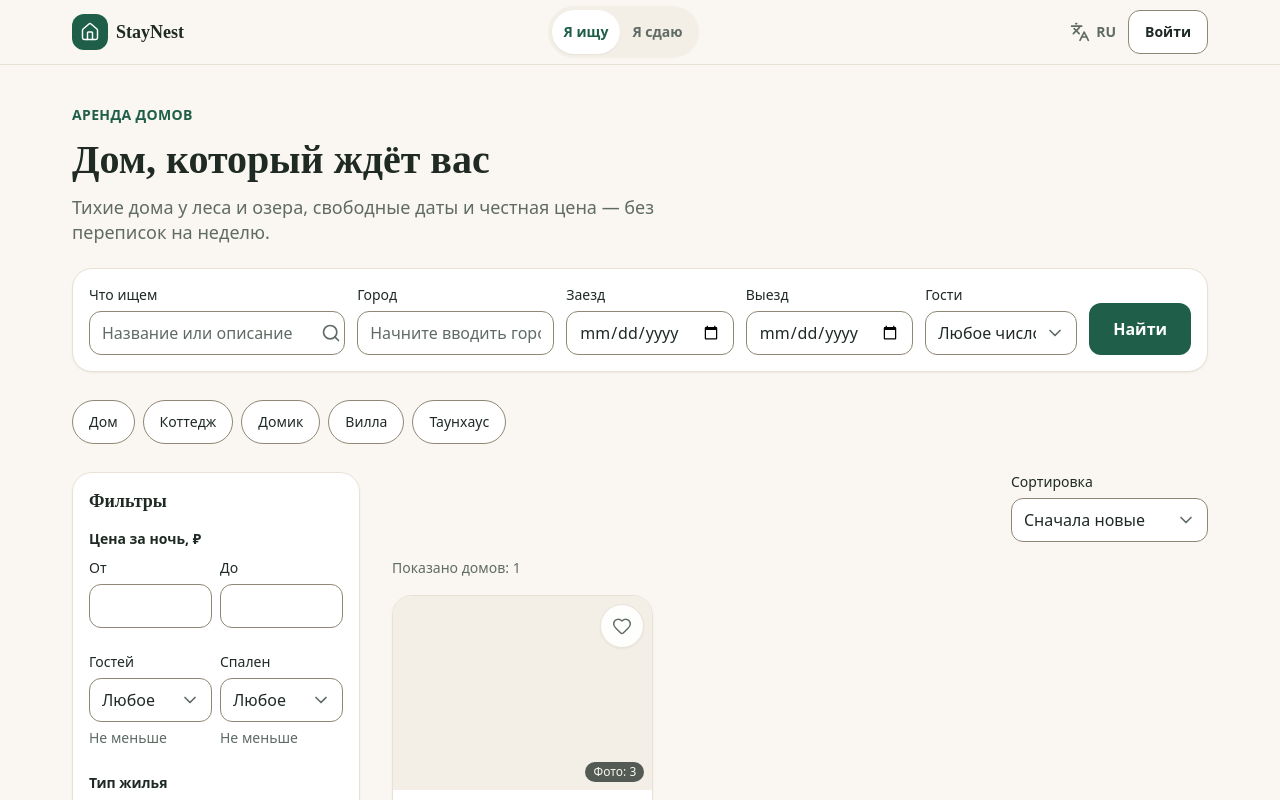
App › показывает главную и переключает язык
Expected: the heading "Дом, который ждёт вас" is shown, [72,137,490,182]
Expected: the link "Войти" is shown, [1128,10,1208,54]
Click the button with aria-label "Переключить язык" at (1093, 32), box [1062,10,1124,54]
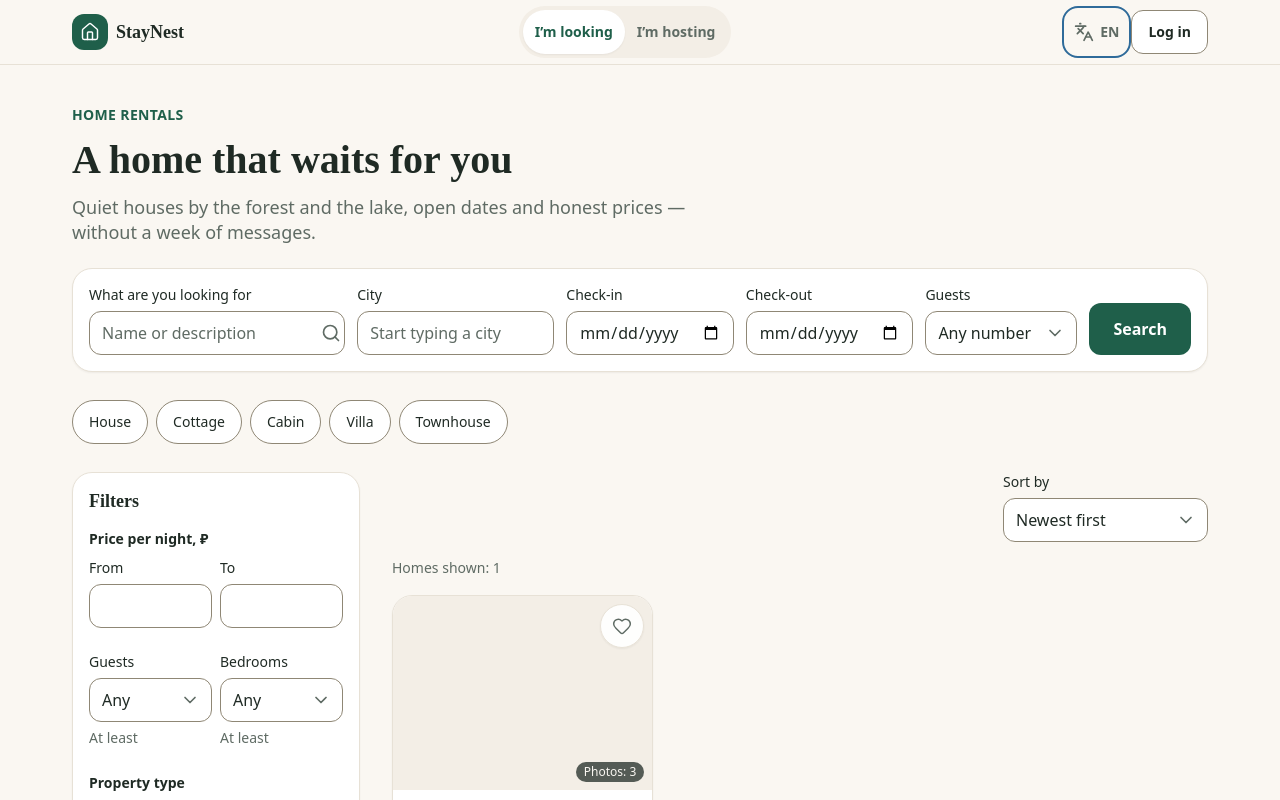
Expected: the heading "A home that waits for you" is shown, [72,137,512,182]
